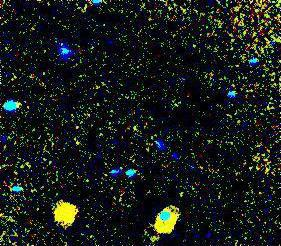star: (52, 196, 82, 226)
